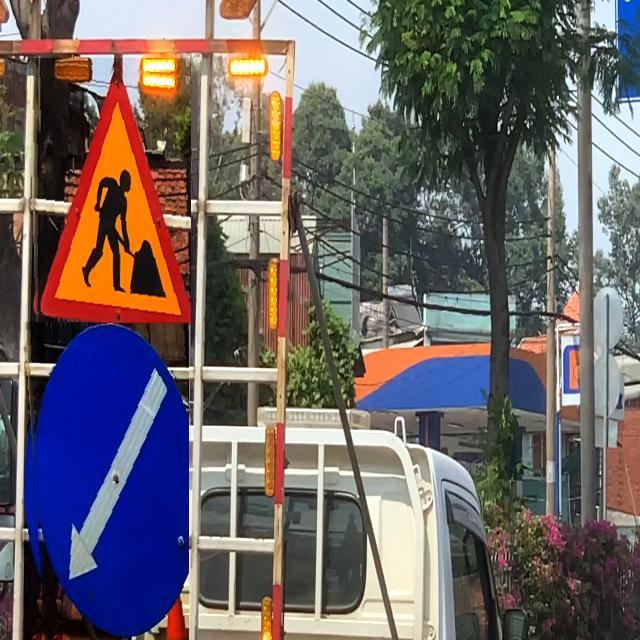R-302b: (24, 322, 189, 640)
W-227: (28, 58, 191, 325)
